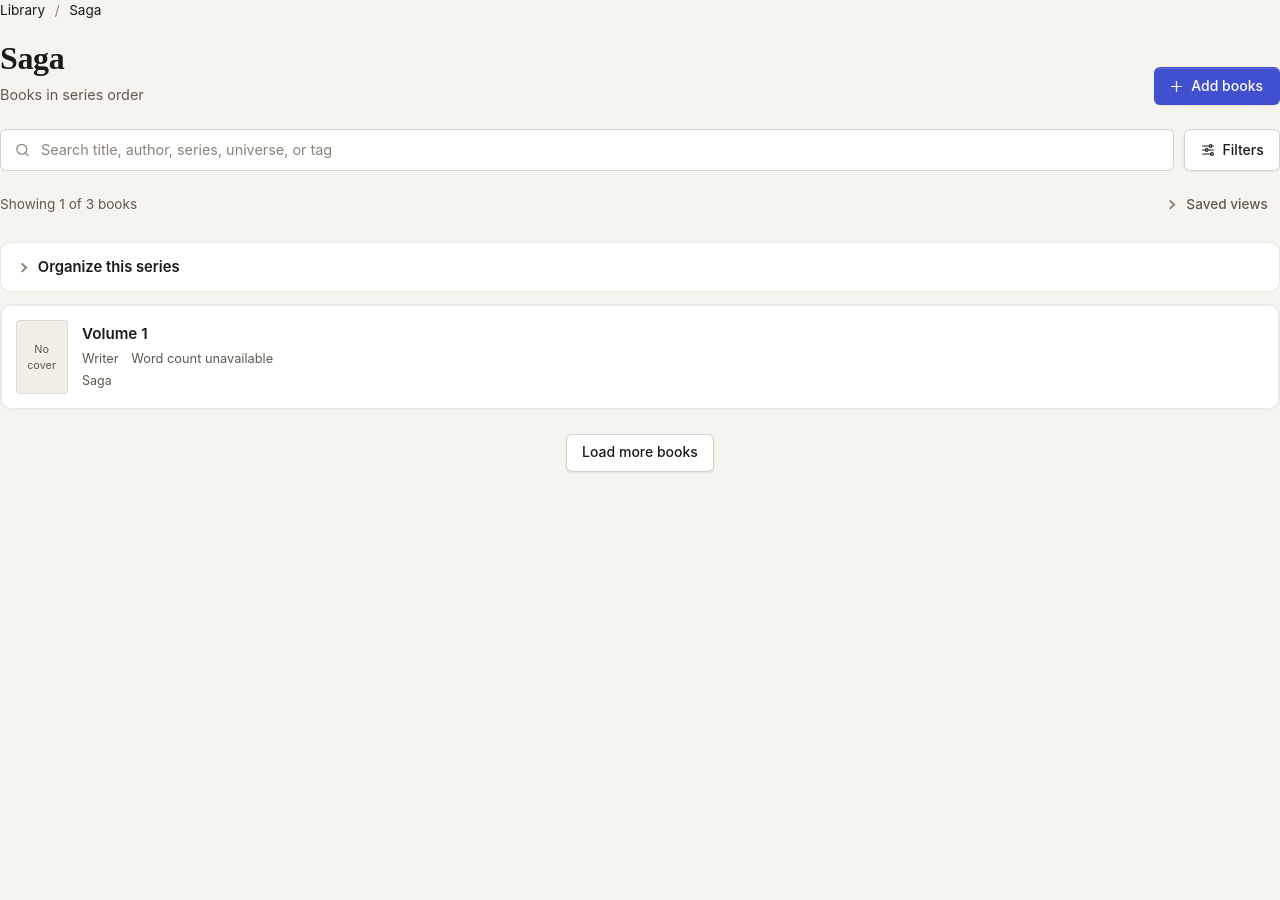
Test: loads series pages incrementally and fetches the complete list only for organizing
The image size is (1280, 900).
Expected: the text "Volume 1" is shown, [82,324,148,343]
Expected: the text "Volume 2" is not shown
Click the button "Load more books".
click(640, 453)  # box [566,434,714,472]
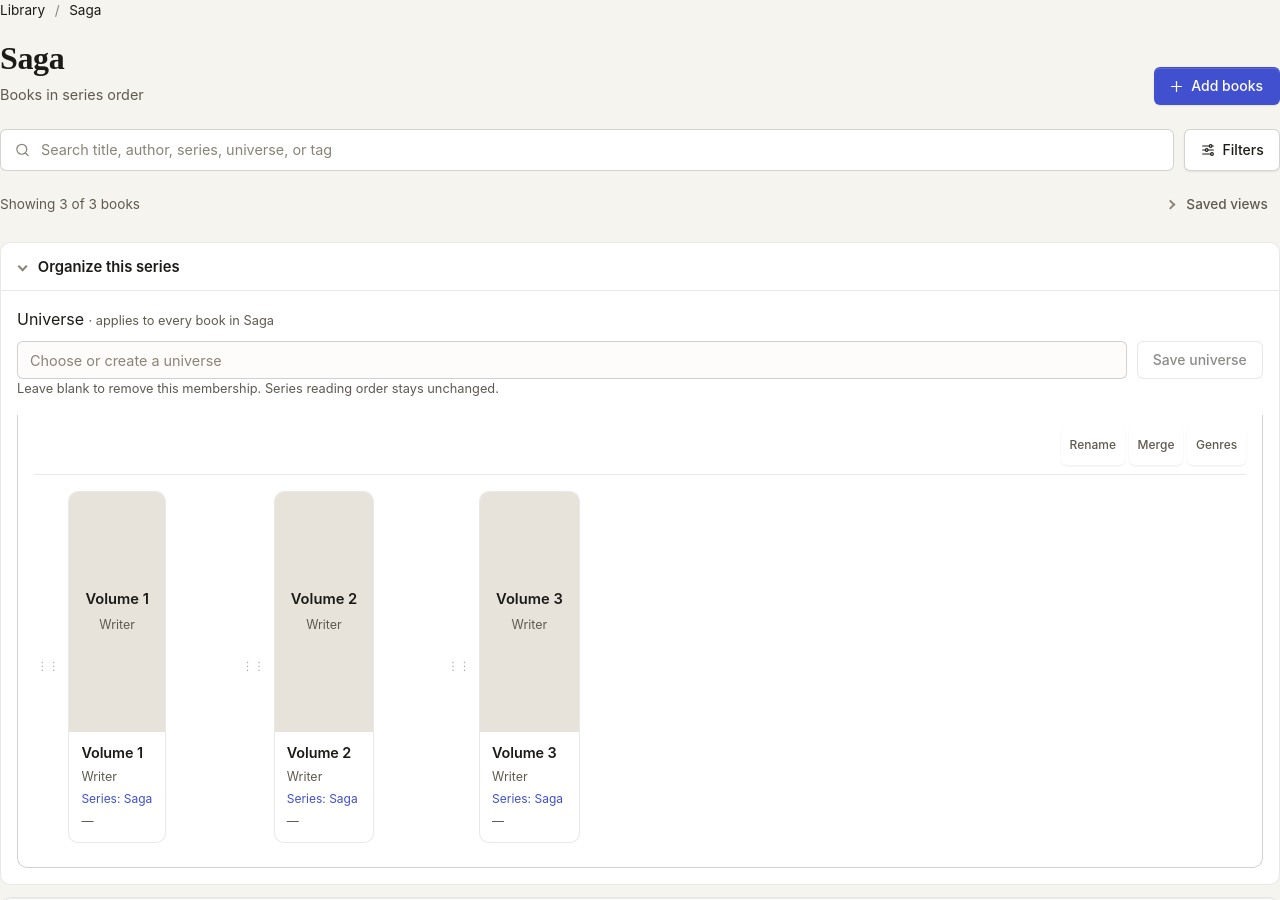
Expected: the text "Volume 3" is shown, [496,590,563,609]
Expected: the button "Load more books" is gone
Expected: the button "Rename" is shown, [1061,427,1125,465]
